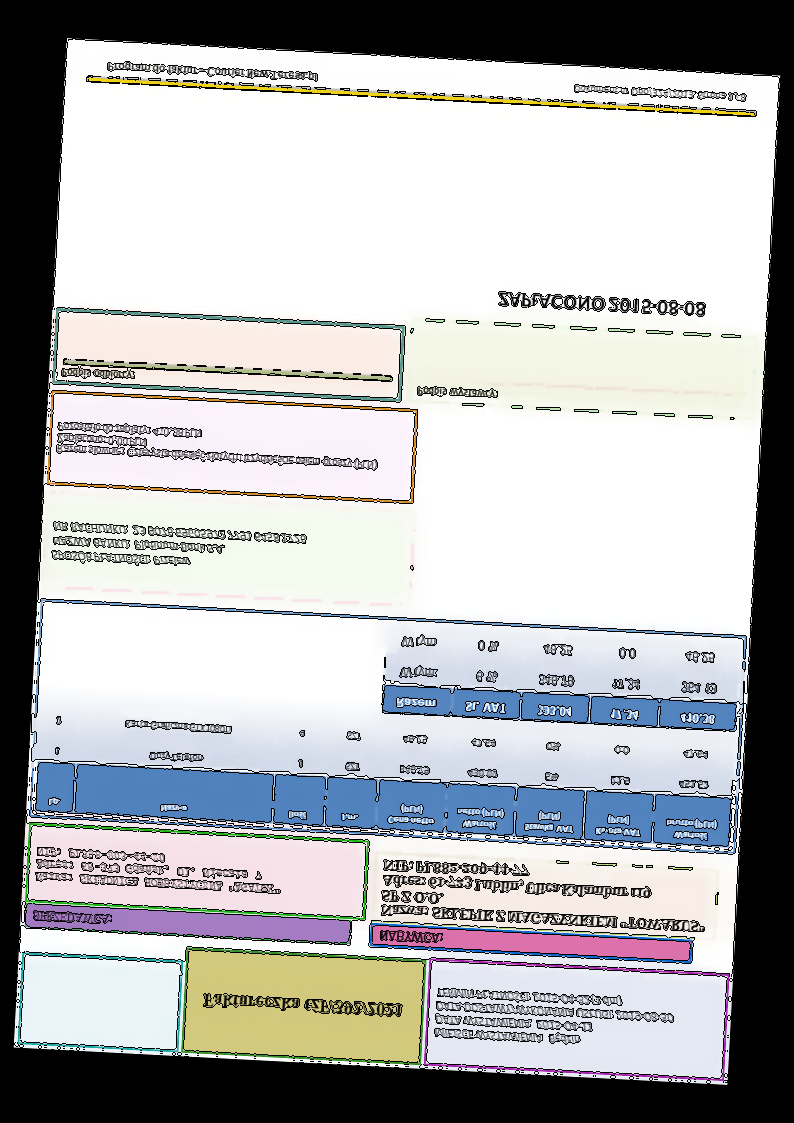Table: (34, 698, 736, 850), (381, 622, 741, 733)
TextBox: (378, 857, 710, 934), (56, 420, 380, 473), (432, 985, 676, 1051), (49, 520, 308, 576), (33, 845, 282, 897), (497, 291, 706, 319), (104, 58, 319, 85), (201, 992, 404, 1020), (572, 81, 748, 105), (30, 908, 115, 927), (415, 383, 499, 402), (59, 365, 137, 383), (378, 928, 444, 947)
